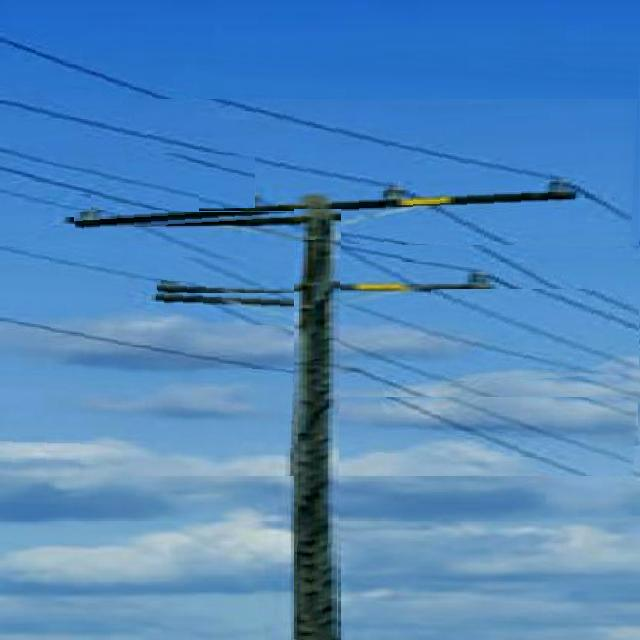crossarm: (75, 212, 362, 230), (158, 286, 439, 293)
pole: (294, 209, 339, 640)
wire: (2, 35, 629, 248), (1, 100, 630, 311), (1, 247, 573, 446), (0, 317, 605, 476), (335, 244, 638, 346), (335, 299, 639, 397), (431, 289, 640, 375), (98, 210, 295, 285), (2, 149, 244, 208), (1, 167, 192, 217), (1, 189, 83, 210)
